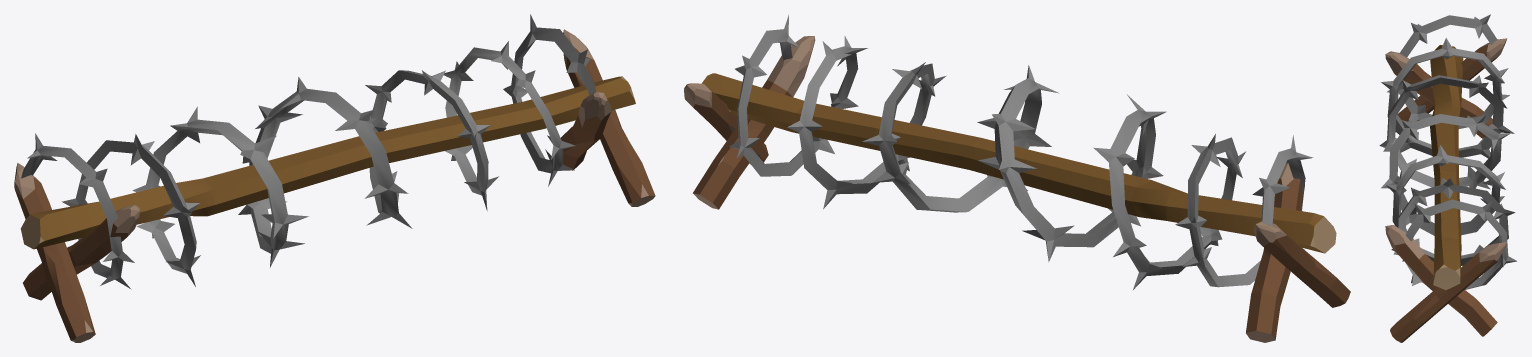
The model's file is 20C_IronFence_50.fbx.
The picture shows the model from 3 angles, left to right: view 1: azimuth 30°, elevation 25°; view 2: azimuth 150°, elevation 25°; view 3: azimuth 270°, elevation 25°; orthographic projection. The views are drawn at different scales.
Parts seen in each view (by area): view 1: 20C_IronFence_50; view 2: 20C_IronFence_50; view 3: 20C_IronFence_50.
Part boxes in pixels (left/top/right/bottom): 20C_IronFence_50: left=14, top=14, right=655, bottom=342; 20C_IronFence_50: left=684, top=14, right=1350, bottom=342; 20C_IronFence_50: left=1379, top=14, right=1516, bottom=342.
Size of the model in its own units: 44.61 by 11.92 by 11.65.
